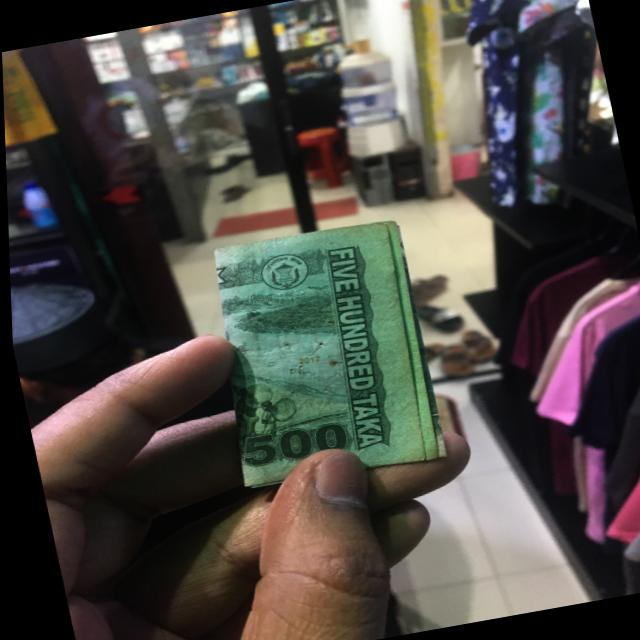Taka: (205, 214, 439, 488)
